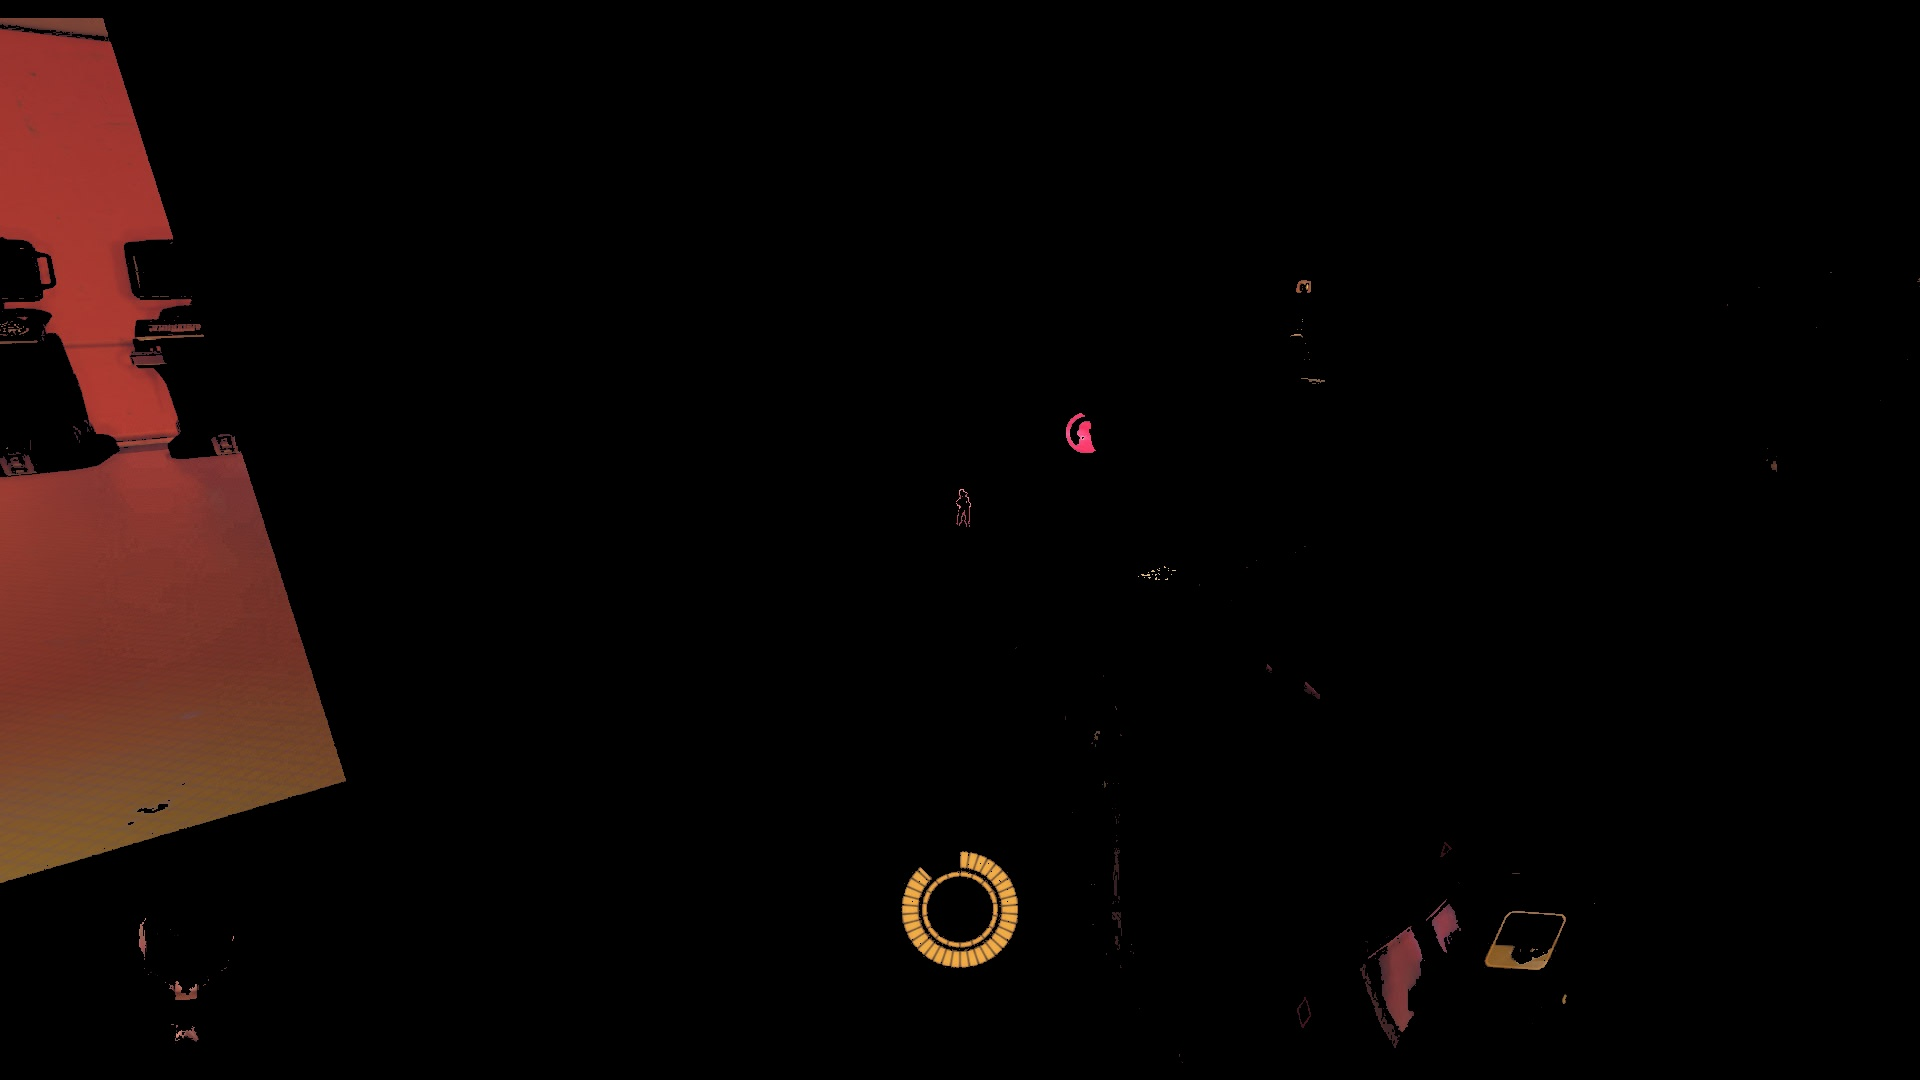widowmaker: (956, 488, 972, 529)
